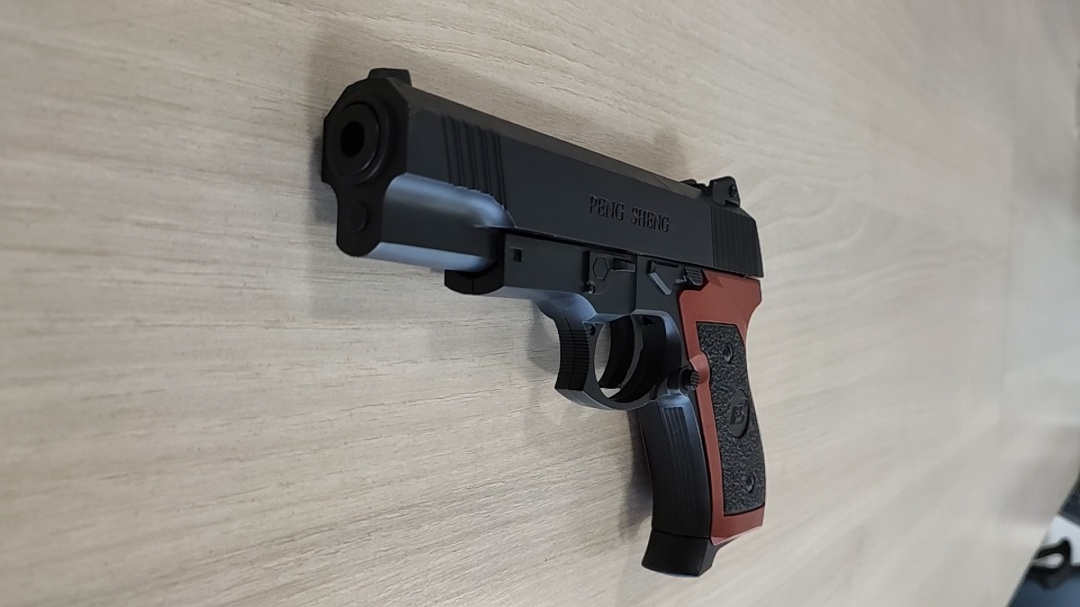gun: (608, 276, 661, 386)
